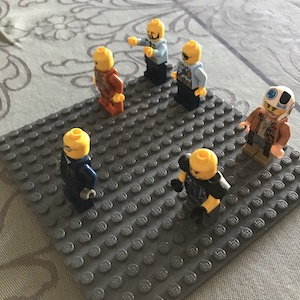Lego: (236, 86, 296, 168), (171, 148, 229, 220), (59, 127, 102, 214), (90, 45, 126, 117), (171, 40, 207, 109), (140, 17, 169, 86)
